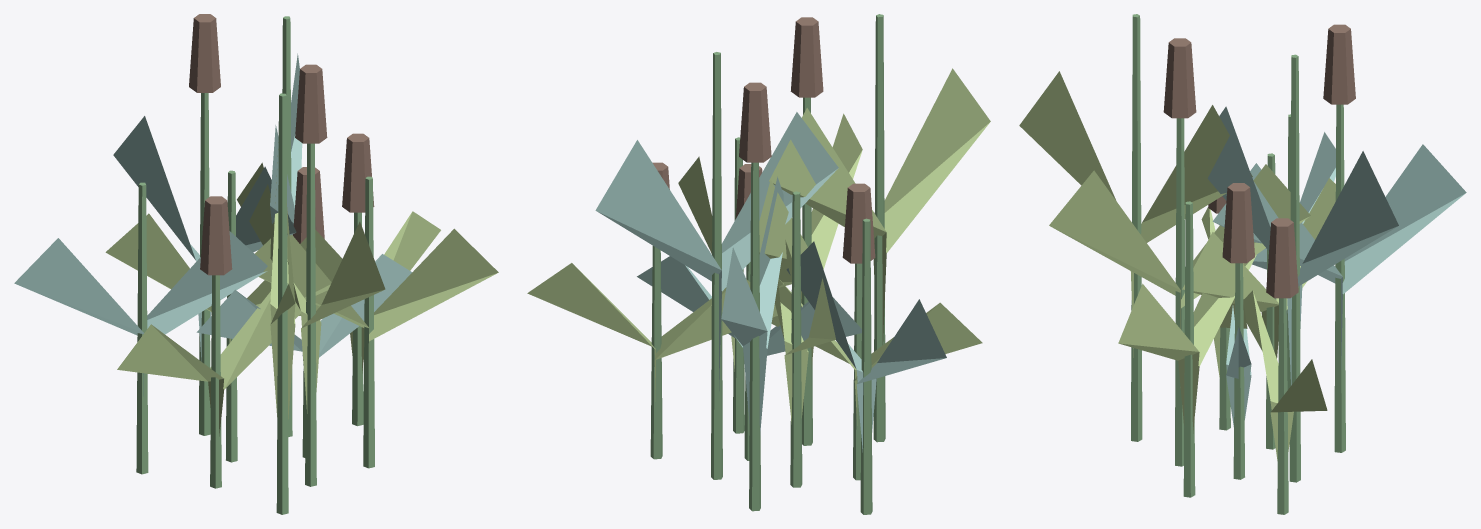
The model's file is world_reeds.fbx.
3 renders of one model, left to right at view 1: azimuth 30°, elevation 25°; view 2: azimuth 150°, elevation 25°; view 3: azimuth 270°, elevation 25°, orthographic.
Parts seen in each view (by area): view 1: world_reeds_mesh; view 2: world_reeds_mesh; view 3: world_reeds_mesh.
Boxes of the visible parts, <box> form: world_reeds_mesh: <box>14,14,498,514</box>; world_reeds_mesh: <box>527,14,990,514</box>; world_reeds_mesh: <box>1019,14,1466,514</box>.
Size of the model in its own units: 1.09 by 1.03 by 0.9859.
